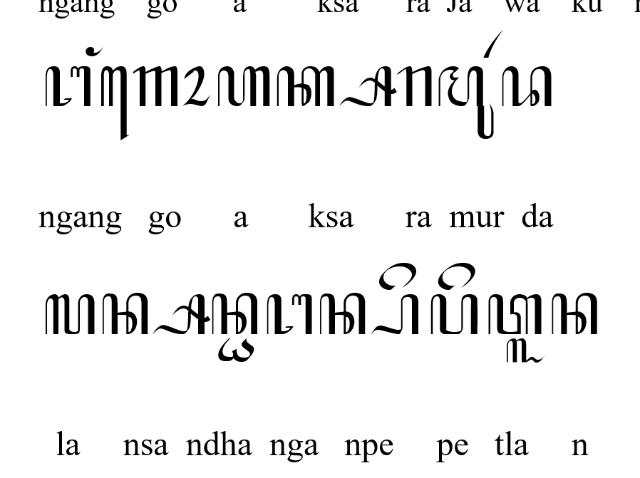_dh: (218, 337, 255, 363)
_l: (506, 337, 544, 363)
_p: (370, 294, 420, 336)
_r1: (482, 30, 503, 58)
_s: (339, 65, 397, 107), (152, 293, 210, 335)
d: (502, 65, 552, 107)
e: (436, 261, 476, 291), (378, 262, 417, 290)
e1: (101, 66, 129, 140)
g: (132, 65, 178, 106)
h: (217, 65, 271, 107)
k: (276, 65, 336, 107)
l: (44, 293, 96, 335)
mu: (438, 65, 494, 139)
n: (319, 292, 367, 336), (102, 292, 148, 336), (212, 293, 258, 335), (552, 293, 598, 335)
ng: (86, 46, 104, 56)
nga: (44, 65, 92, 107), (267, 293, 313, 335)
o: (182, 65, 210, 106)
p: (430, 293, 478, 335)
r: (398, 65, 432, 106)
t: (487, 294, 543, 336)
